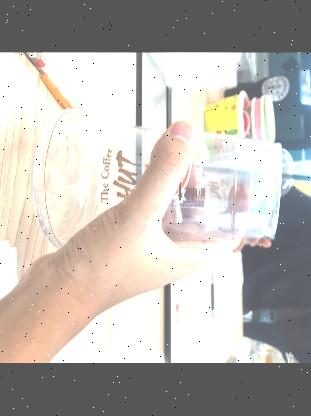Others: (26, 104, 280, 262)
